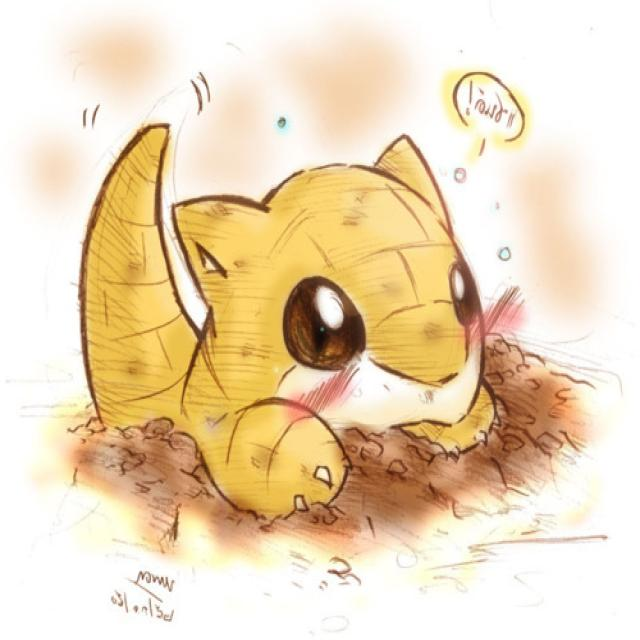Sandshrew: (62, 110, 512, 544)
